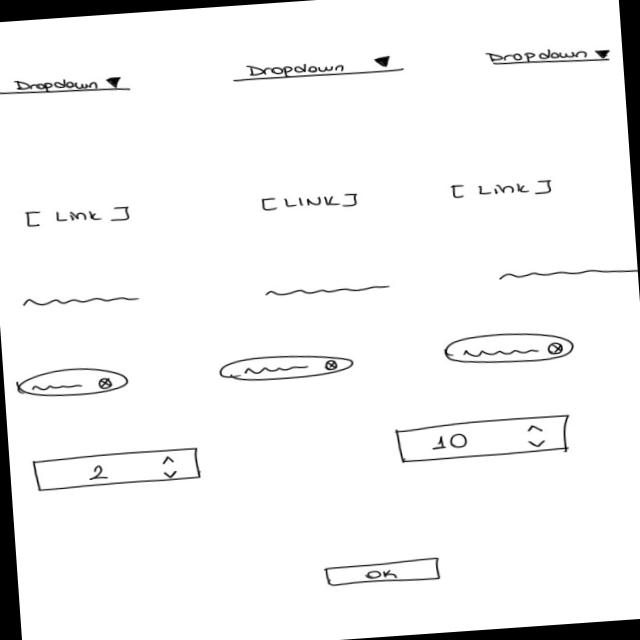button: (324, 555, 442, 588)
link: (22, 202, 130, 230), (448, 175, 556, 203), (260, 190, 360, 213)
number-input: (393, 412, 572, 466), (30, 446, 202, 494)
select: (230, 51, 408, 84), (0, 70, 132, 100), (483, 40, 614, 70)
text: (494, 261, 638, 283), (20, 289, 142, 311), (262, 280, 395, 299)
